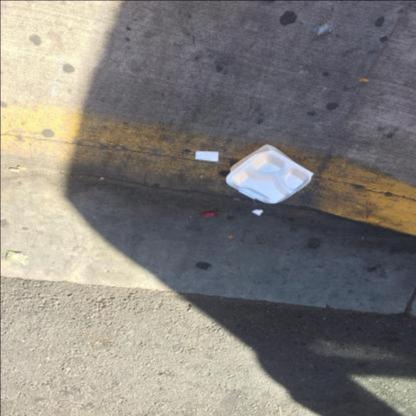Cigarette: (16, 166, 28, 170), (10, 168, 21, 172)
Plastic bag - wrapper: (300, 17, 341, 34), (202, 211, 216, 218)
Plastic container: (225, 144, 313, 203)
Unlabeled litter: (194, 150, 218, 161), (252, 210, 263, 216)
